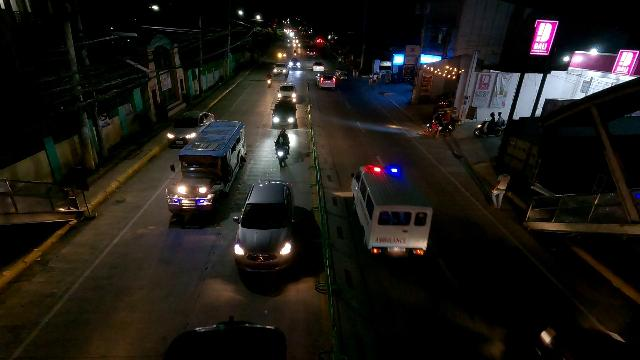car: (232, 179, 297, 276), (165, 108, 216, 149), (271, 99, 298, 128), (276, 84, 298, 103), (316, 71, 336, 89), (273, 63, 289, 77), (288, 58, 301, 70), (312, 61, 325, 72), (277, 50, 288, 59), (306, 47, 317, 56)
jeepney: (165, 120, 249, 213)
motorcycle: (273, 140, 291, 169)
van: (353, 162, 435, 266)
